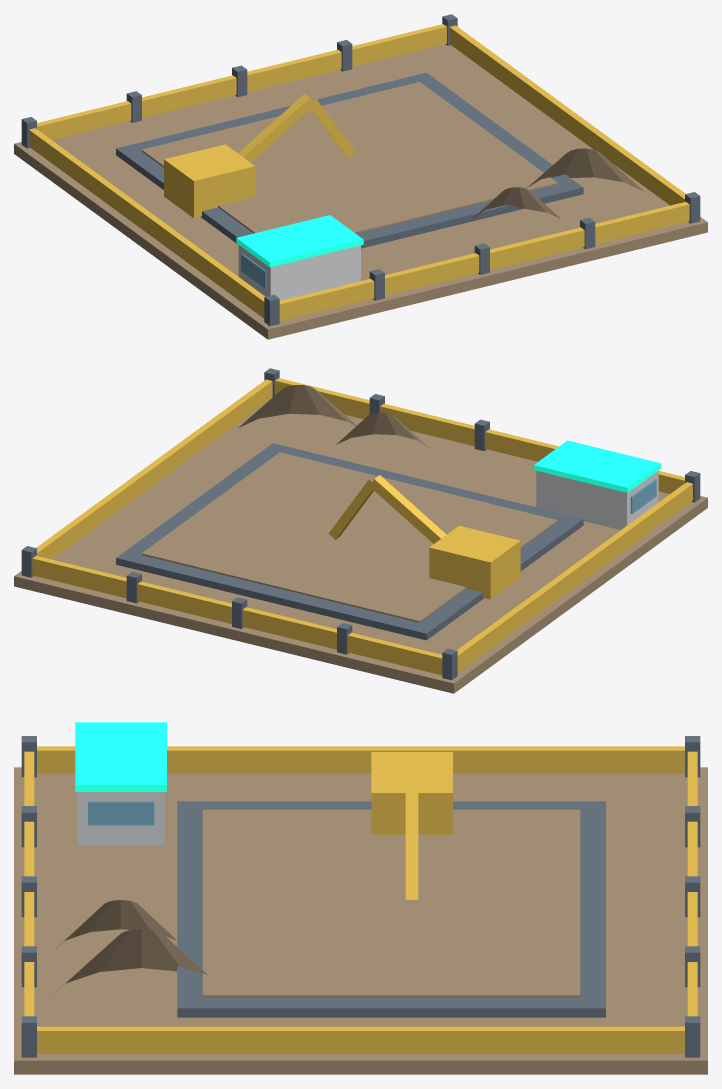
Rendered from stage_2_groundworks.glb.
3 views of the same model, one above another, from view 1: azimuth 30°, elevation 25°; view 2: azimuth 150°, elevation 25°; view 3: azimuth 270°, elevation 25° (orthographic). The views are drawn at different scales.
Parts seen in each view (by area): view 1: stage_2_groundworks; view 2: stage_2_groundworks; view 3: stage_2_groundworks.
Boxes of the visible parts, x1,y1,x2,y2 form: stage_2_groundworks: (14, 14, 707, 339); stage_2_groundworks: (14, 368, 707, 693); stage_2_groundworks: (14, 722, 707, 1074).
Size of the model in its own units: 2.72 by 0.5455 by 2.72.
